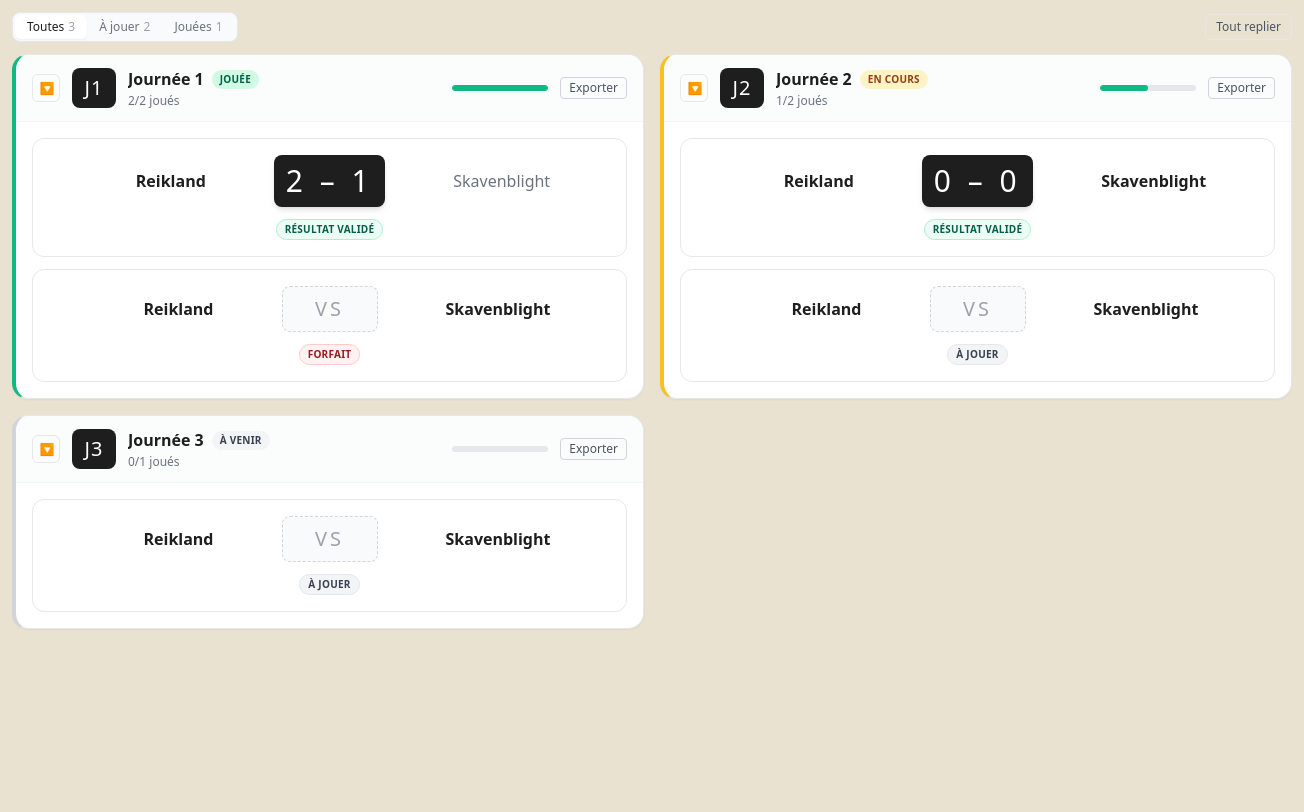
Test case: SeasonCalendar — nouvelle présentation › filtre les journées à jouer / jouées
Expected: the tab with test id "calendar-filter-all" shows "3", [15,15,87,39]
Click the tab with test id "calendar-filter-played": click(198, 27) [162,15,234,39]
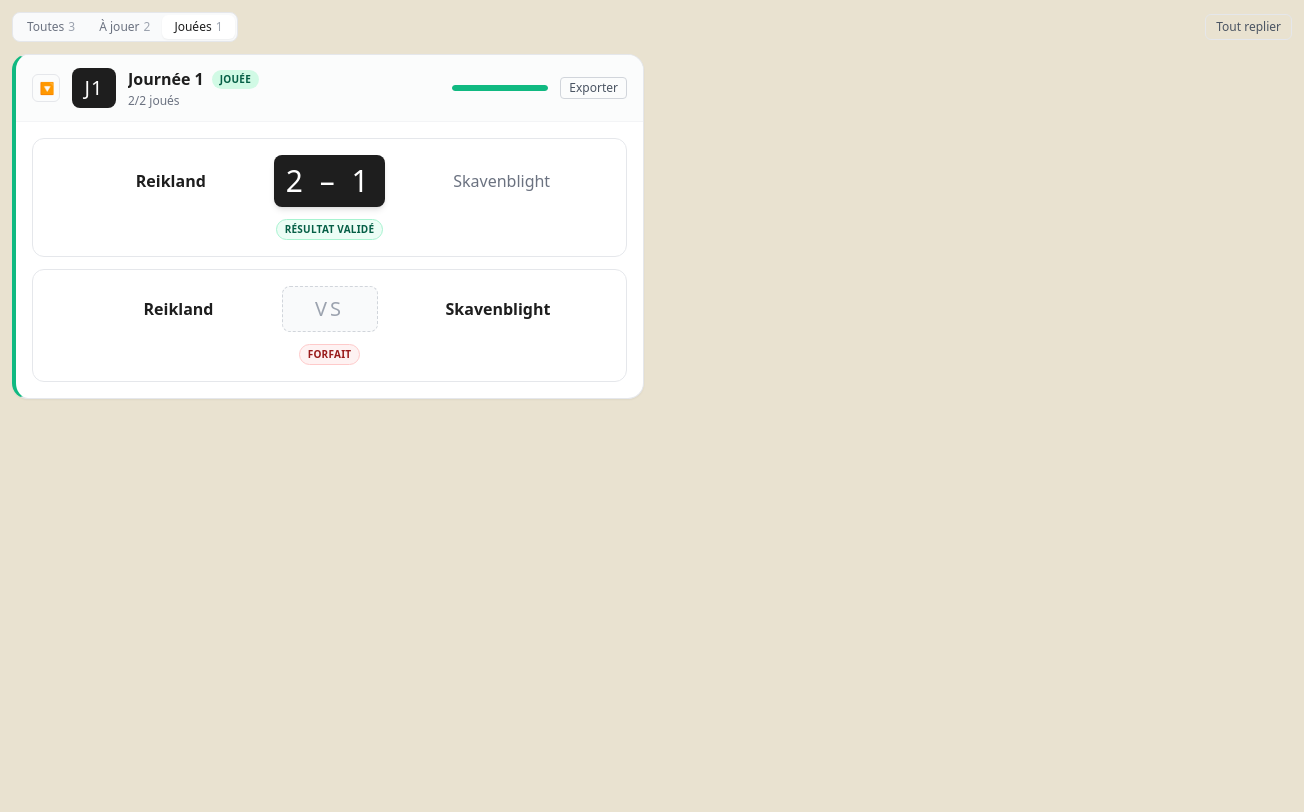
Expected: the list item with test id "league-round-r1" is shown, [12,54,644,399]
Now the list item with test id "league-round-r2" is gone
Click the tab with test id "calendar-filter-upcoming": click(125, 27) [87,15,162,39]
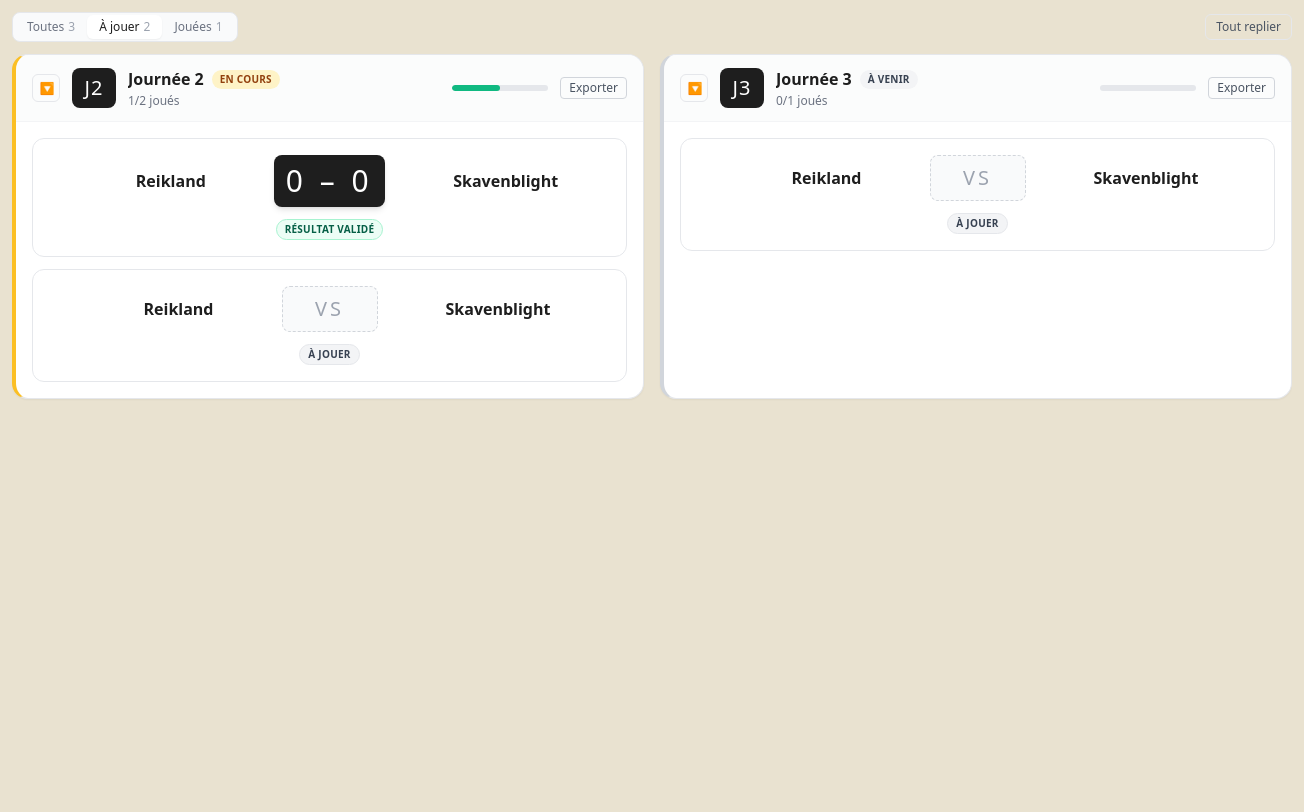
Now the list item with test id "league-round-r1" is gone
Now the list item with test id "league-round-r2" is shown, box [12,54,644,399]
Now the list item with test id "league-round-r3" is shown, box [660,54,1292,399]
